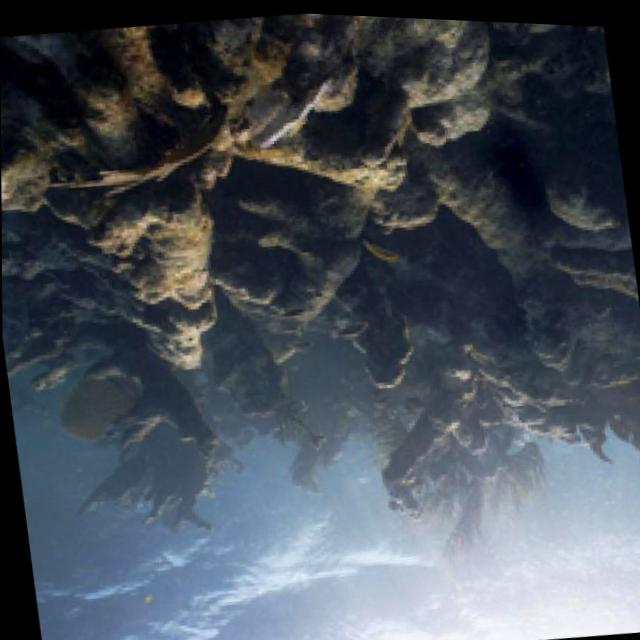Dead Coral: (195, 7, 634, 336), (349, 285, 640, 541), (50, 130, 284, 424)
